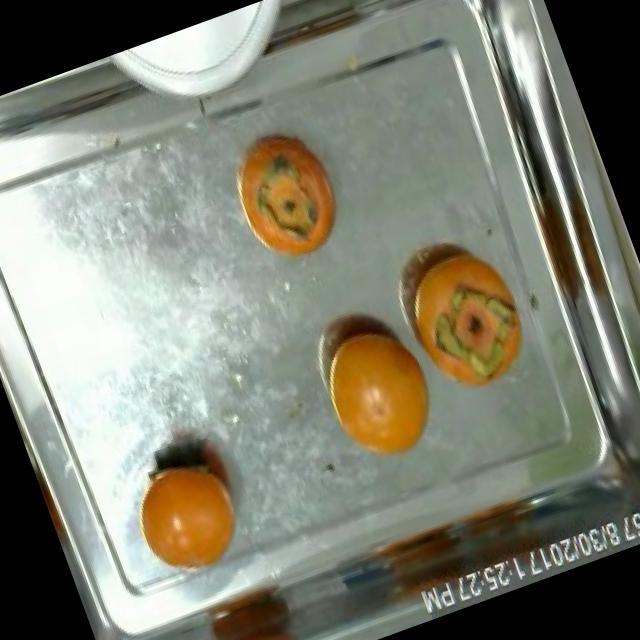Fruit: (385, 220, 553, 416), (301, 300, 459, 482), (212, 102, 366, 280), (114, 432, 268, 596), (177, 555, 321, 640)
